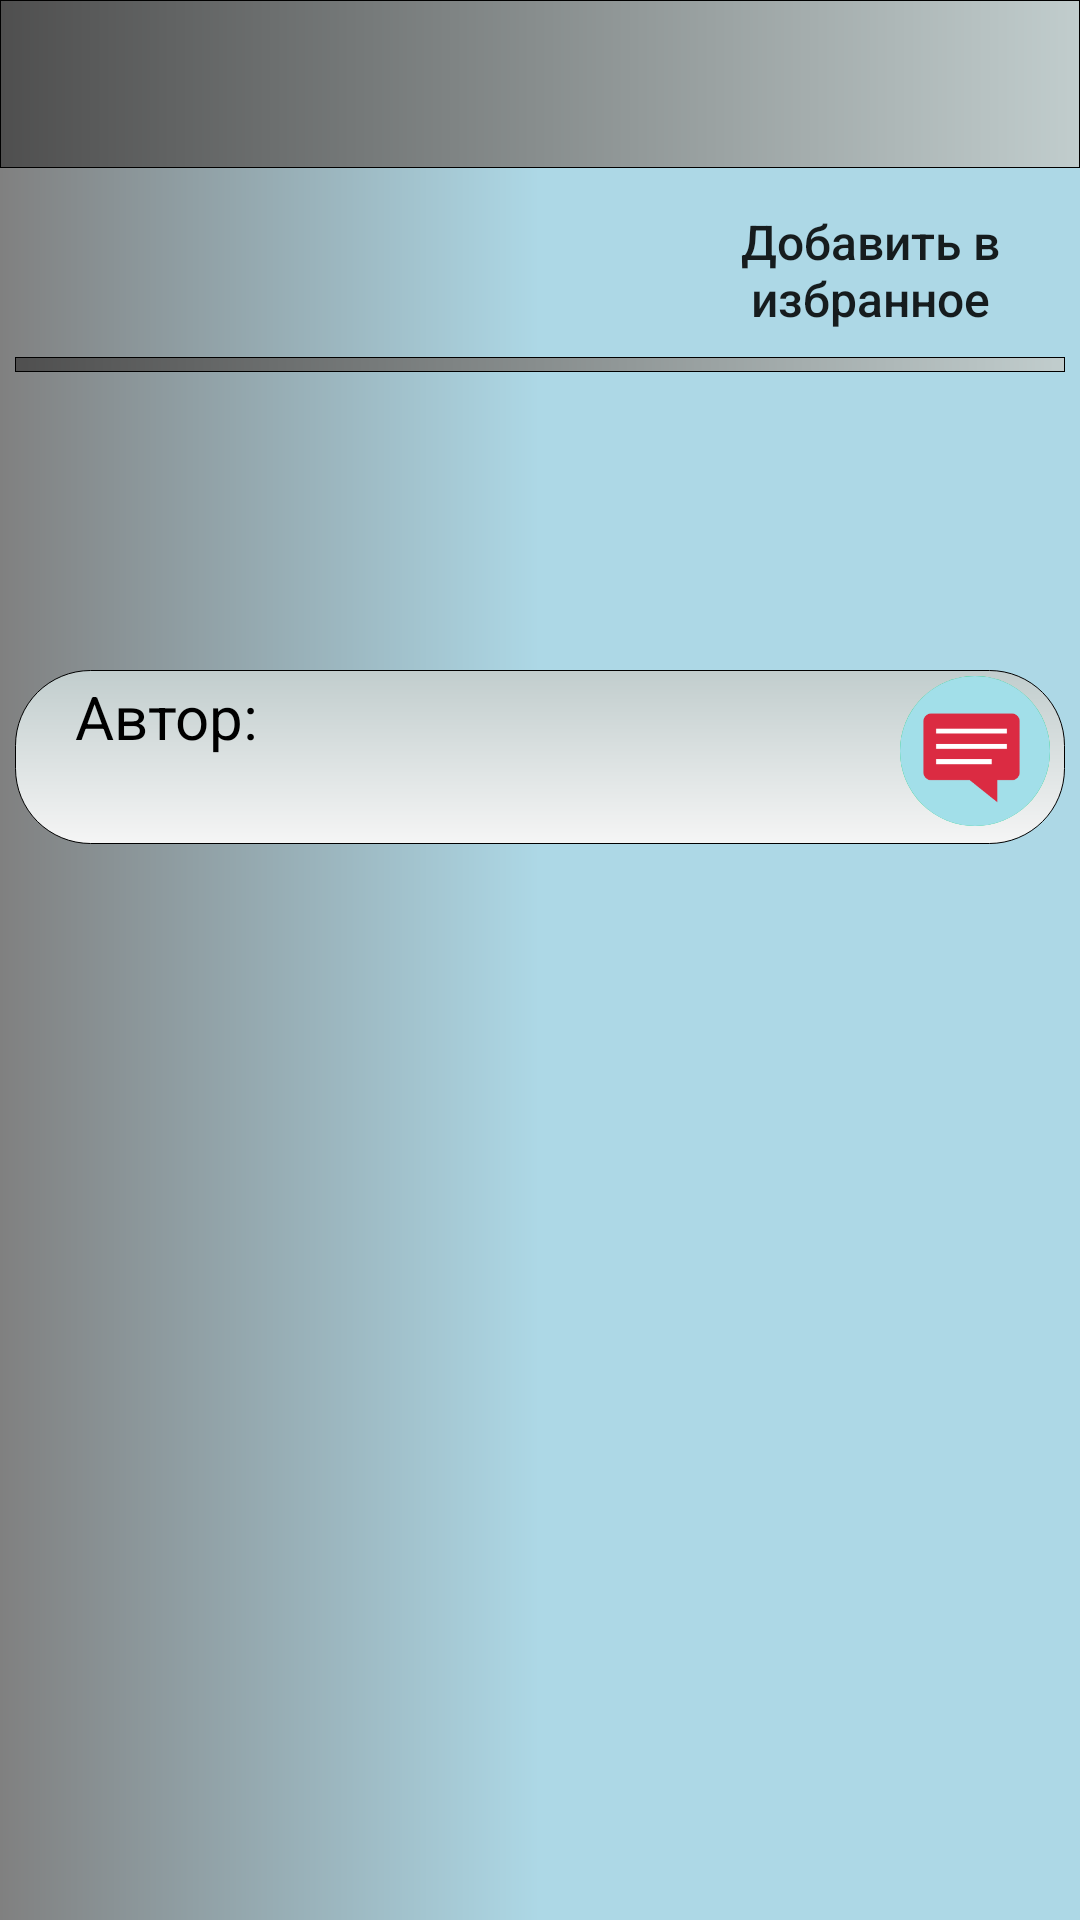

Icon click points for this 1080px x 1920px phone screenshot, format [x,y]:
coment: [975,751]
